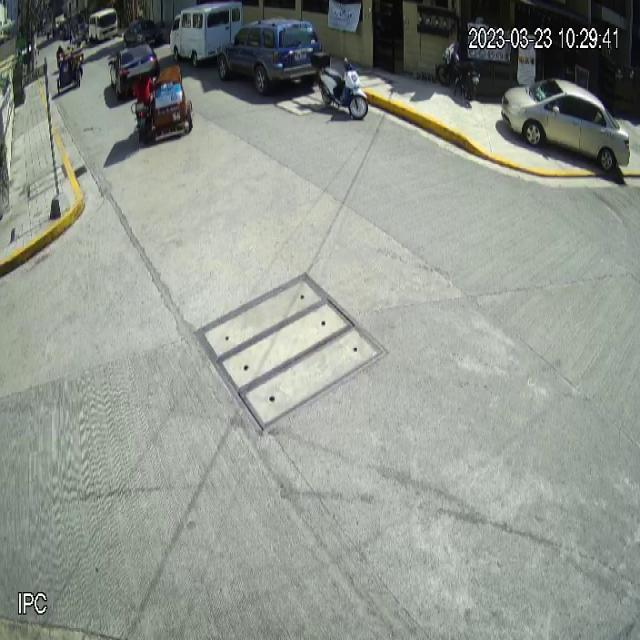Car: (501, 76, 631, 172), (217, 18, 323, 95)
Motorcycle: (311, 50, 368, 120)
Tricycle: (129, 61, 194, 142)
Van: (169, 1, 243, 68)
